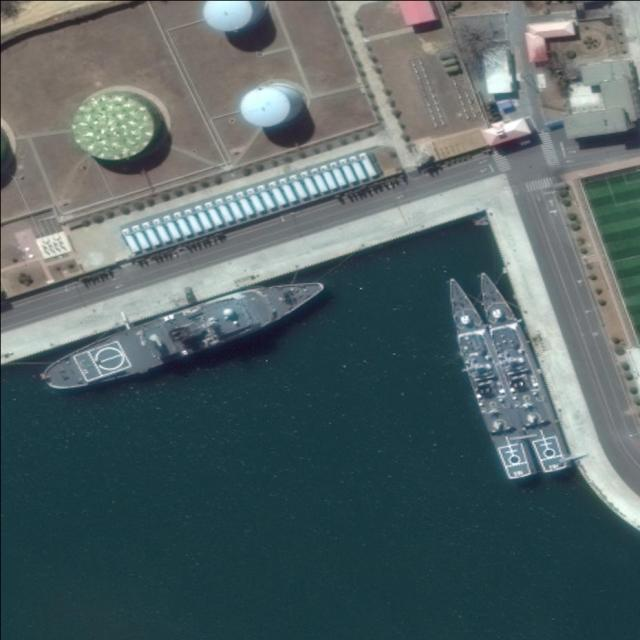Auxiliary Ships: (471, 260, 568, 479), (440, 269, 532, 484)
Other Warship: (36, 261, 330, 404)
